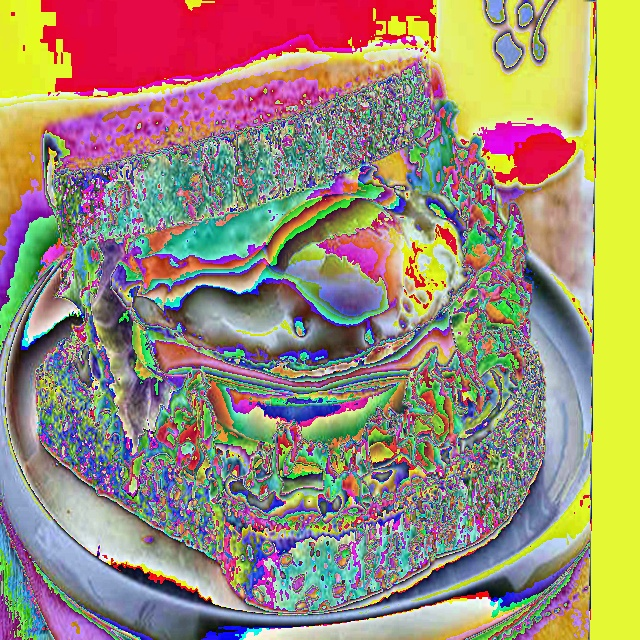background: (35, 56, 547, 611)
